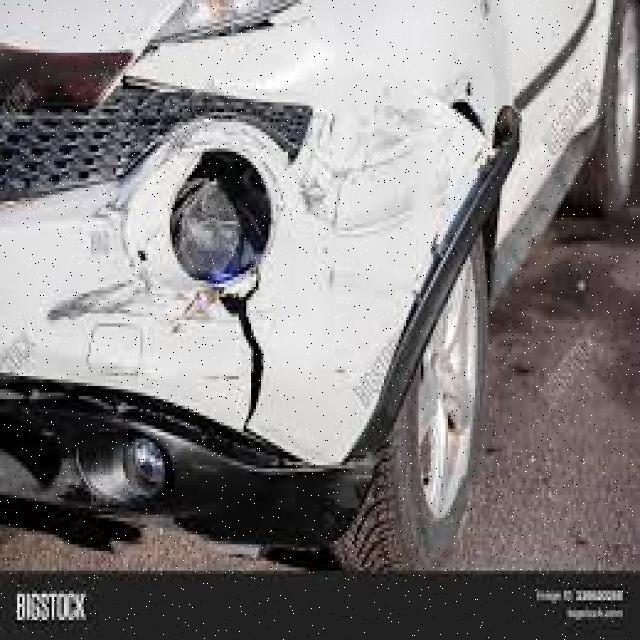front-bumper-dent: (0, 86, 527, 466)
